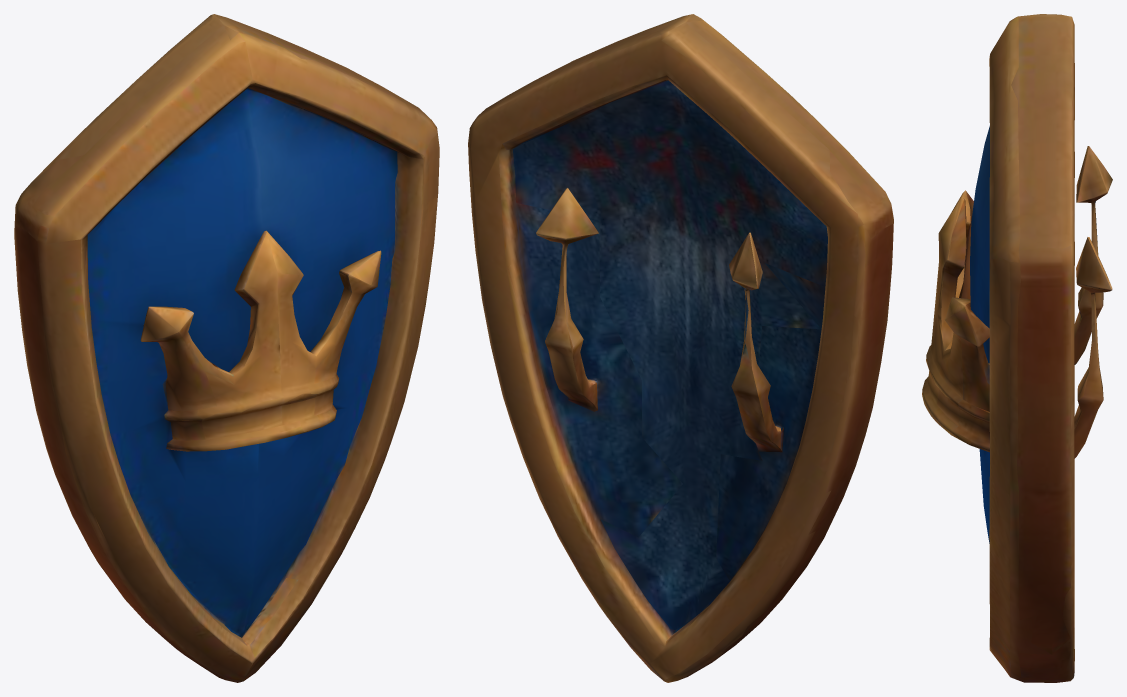
File: shield_human.glb
3 views of the same model, side by side, from view 1: azimuth 30°, elevation 25°; view 2: azimuth 150°, elevation 25°; view 3: azimuth 270°, elevation 25° (orthographic). The views are drawn at different scales.
Parts seen in each view (by area): view 1: shield_human; view 2: shield_human; view 3: shield_human.
Part boxes in pixels (x1=…): shield_human: x1=14, y1=14, x2=439, y2=682; shield_human: x1=468, y1=14, x2=893, y2=682; shield_human: x1=922, y1=14, x2=1112, y2=682.
Size of the model in its own units: 0.2589 by 0.3995 by 0.1038.
1 material, 1 textured.
